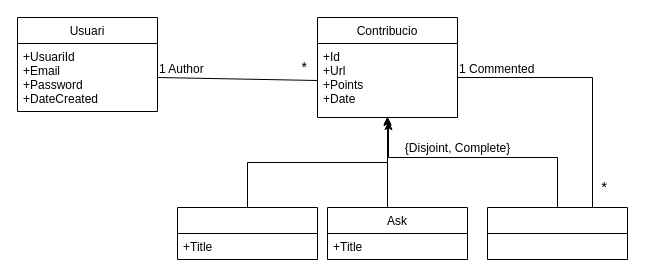
The diagram is 645 pixels wide and 280 high, and some of its shapes have lost their labels. Each missing label, with the box of its shape:
Comments: (486, 206, 628, 260)
News: (176, 206, 318, 260)
